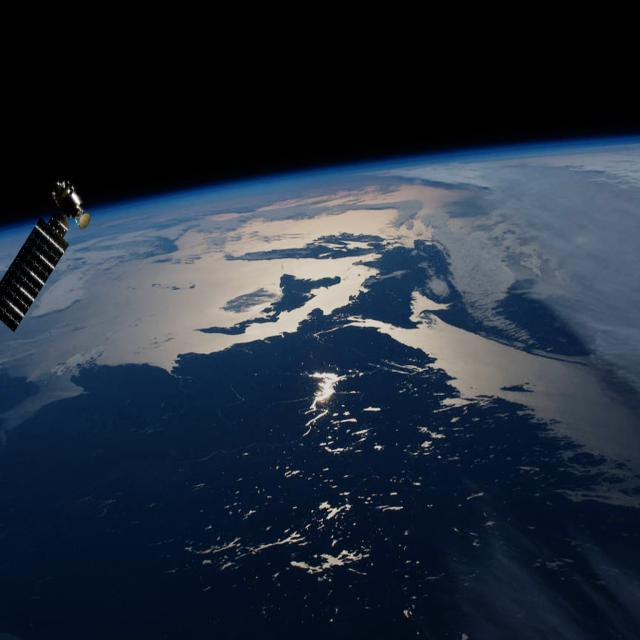satellite: (0, 122, 116, 353)
